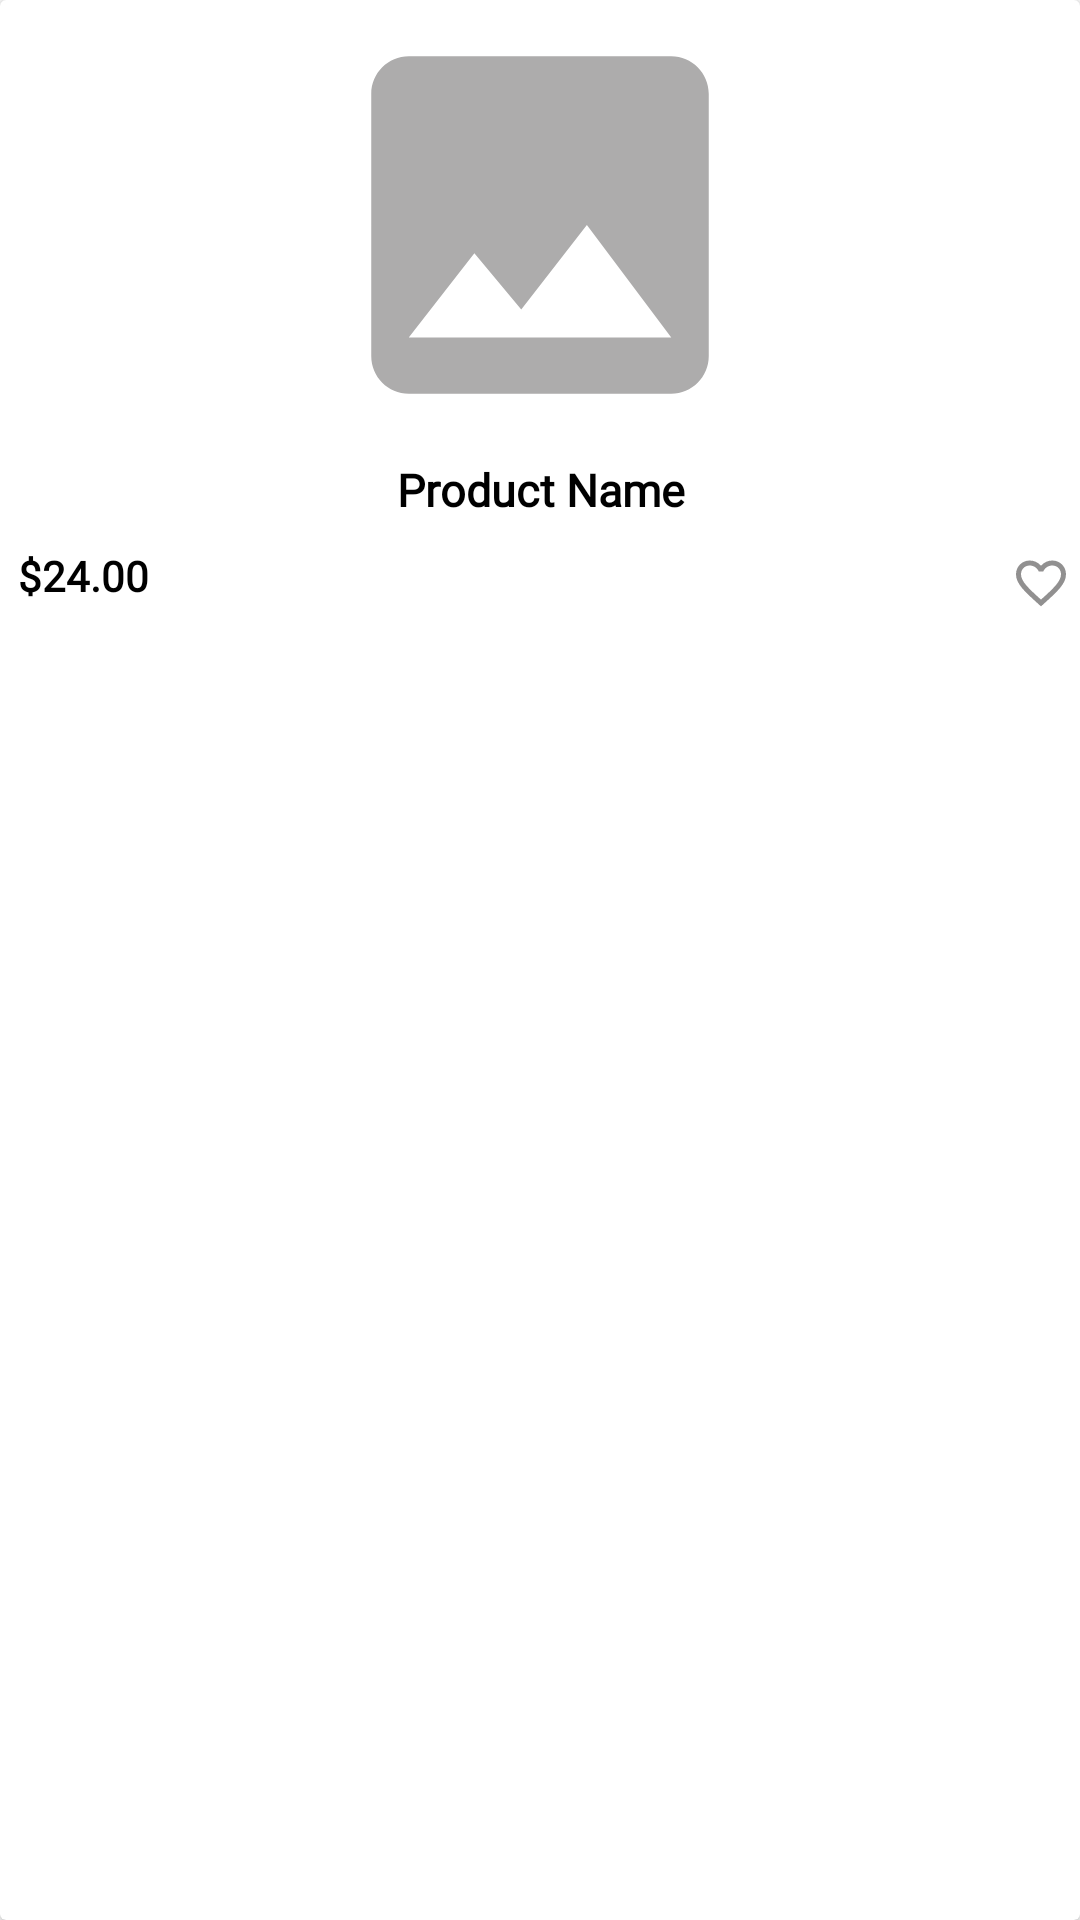

Screen size 1080 × 1920. Icon name, then its box in pixels as (x1, y1, x2, y2):
before favorite: (1016, 560, 1066, 606)
